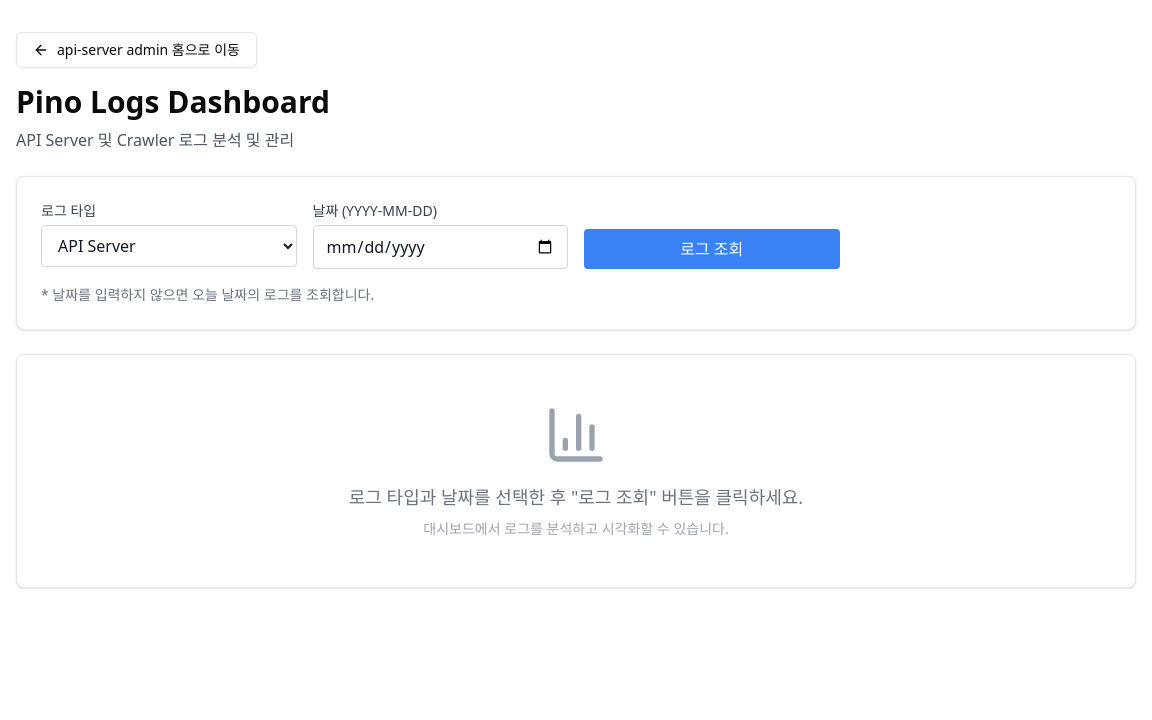
admin API-server consumers › Logs keeps the selected API-server fetch and raw-log view interaction
Click the button "로그 조회". click: point(712, 249)
box: [584,229,840,269]
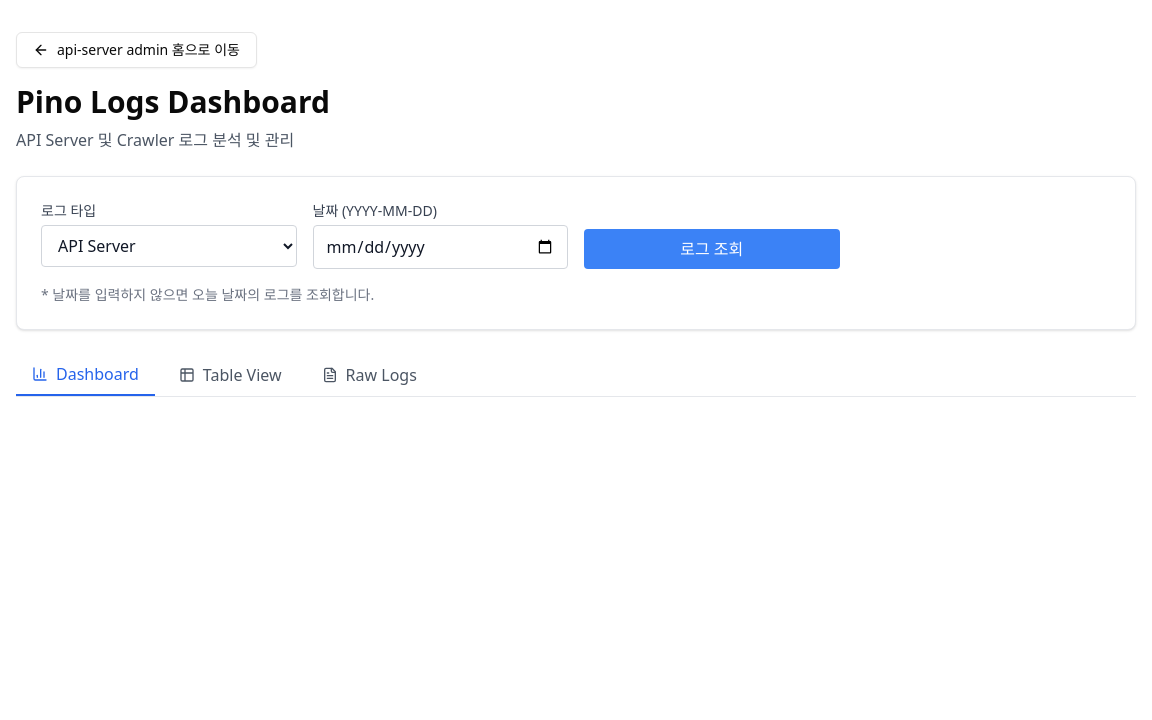
Click the button "Raw Logs". click: point(369, 375)
box: [306,354,433,396]
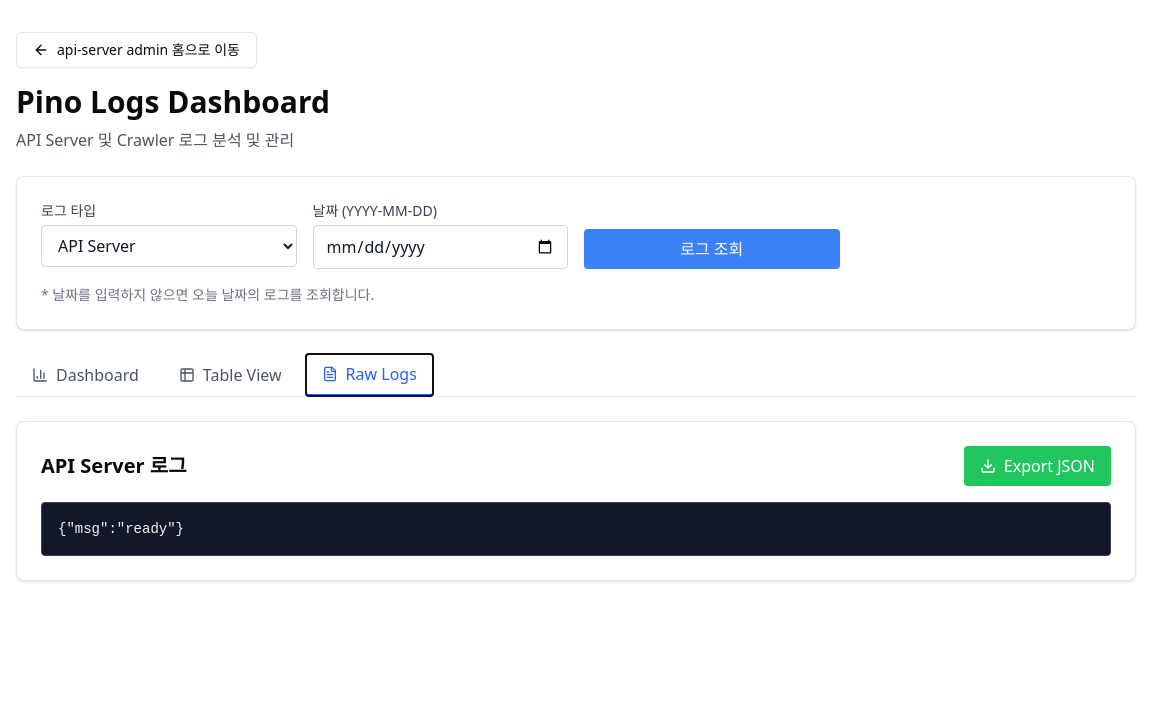
Expected: the text "{\"msg\":\"ready\"}" is shown, [41,502,1111,556]
